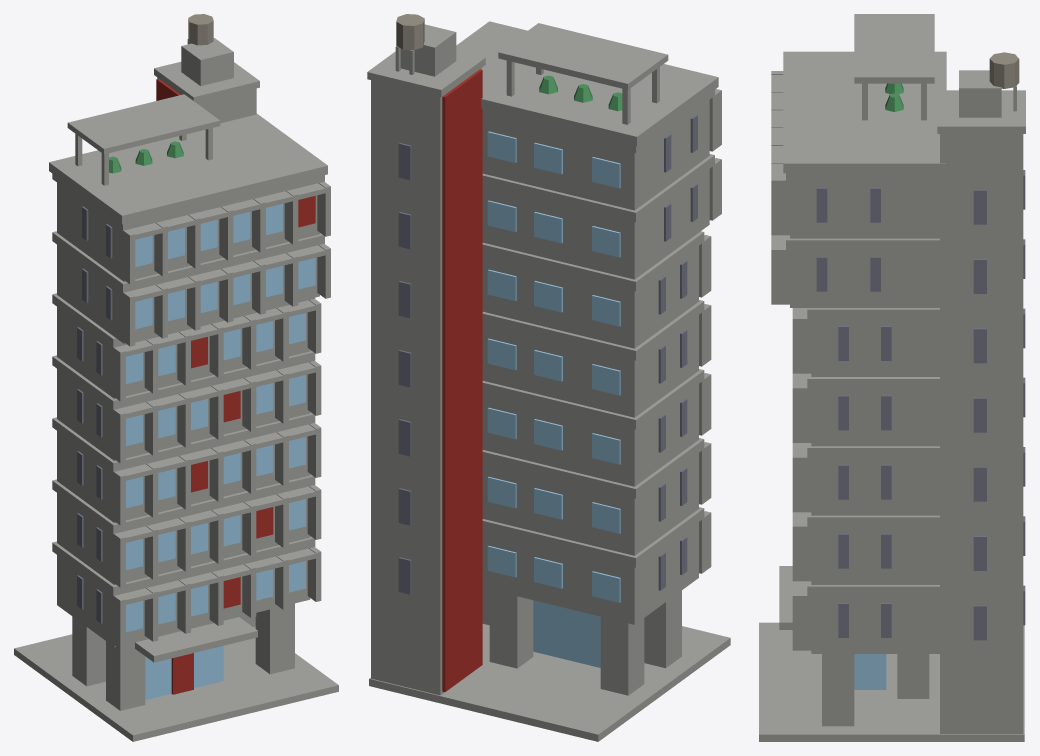
The model's file is tower-1x1-8f-brutalist-a.glb.
The picture shows the model from 3 angles, left to right: view 1: azimuth 30°, elevation 25°; view 2: azimuth 150°, elevation 25°; view 3: azimuth 270°, elevation 25°; orthographic projection. The views are drawn at different scales.
Parts seen in each view (by area): view 1: tower-1x1-8f-brutalist-a; view 2: tower-1x1-8f-brutalist-a; view 3: tower-1x1-8f-brutalist-a.
Boxes of the visible parts, x1=… form: tower-1x1-8f-brutalist-a: x1=14, y1=14, x2=338, y2=741; tower-1x1-8f-brutalist-a: x1=367, y1=14, x2=730, y2=741; tower-1x1-8f-brutalist-a: x1=759, y1=14, x2=1025, y2=741.
Bounding box in the file's own units: 0.995 × 2.75 × 0.995.
Materials: 1 (1 with a texture image).
